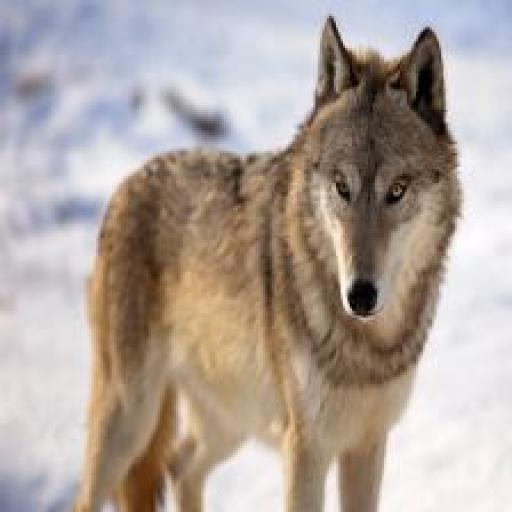wolf: (80, 0, 467, 512)
